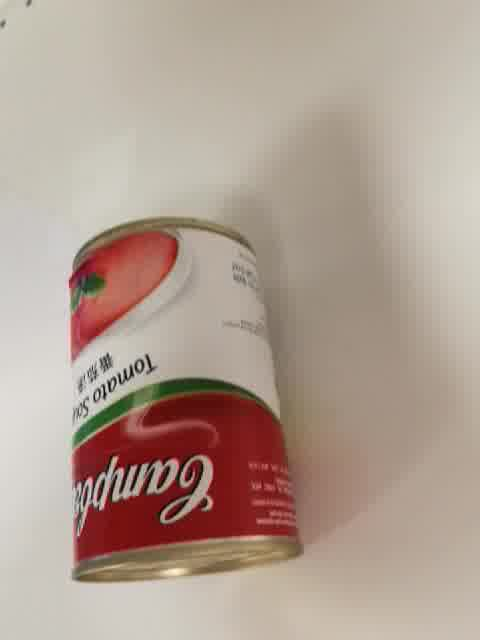tomatosoup: (62, 216, 307, 585)
